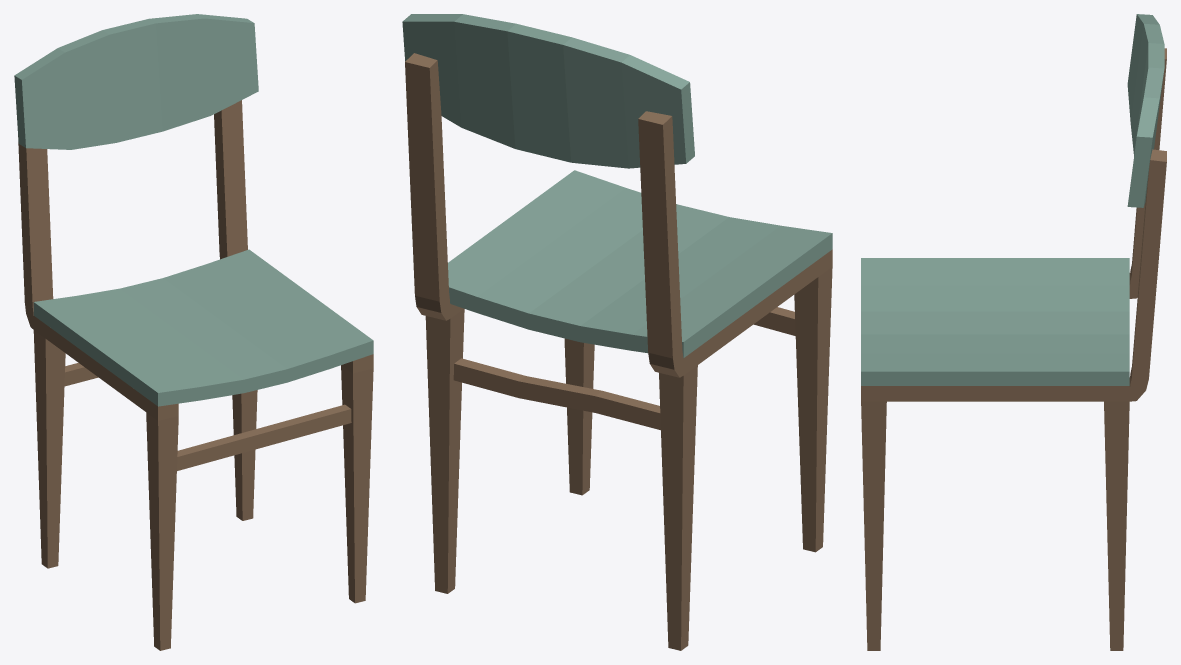
The model's file is Wh_Chair_02.fbx.
The picture shows the model from 3 angles, left to right: view 1: azimuth 30°, elevation 25°; view 2: azimuth 150°, elevation 25°; view 3: azimuth 270°, elevation 25°; orthographic projection. The views are drawn at different scales.
Parts seen in each view (by area): view 1: Cube.808; view 2: Cube.808; view 3: Cube.808.
Part boxes in pixels (x1,y1,x2,y2): Cube.808: [14, 14, 373, 650]; Cube.808: [402, 14, 832, 650]; Cube.808: [861, 14, 1166, 650].
Size of the model in its own units: 52.53 by 108 by 55.36.
